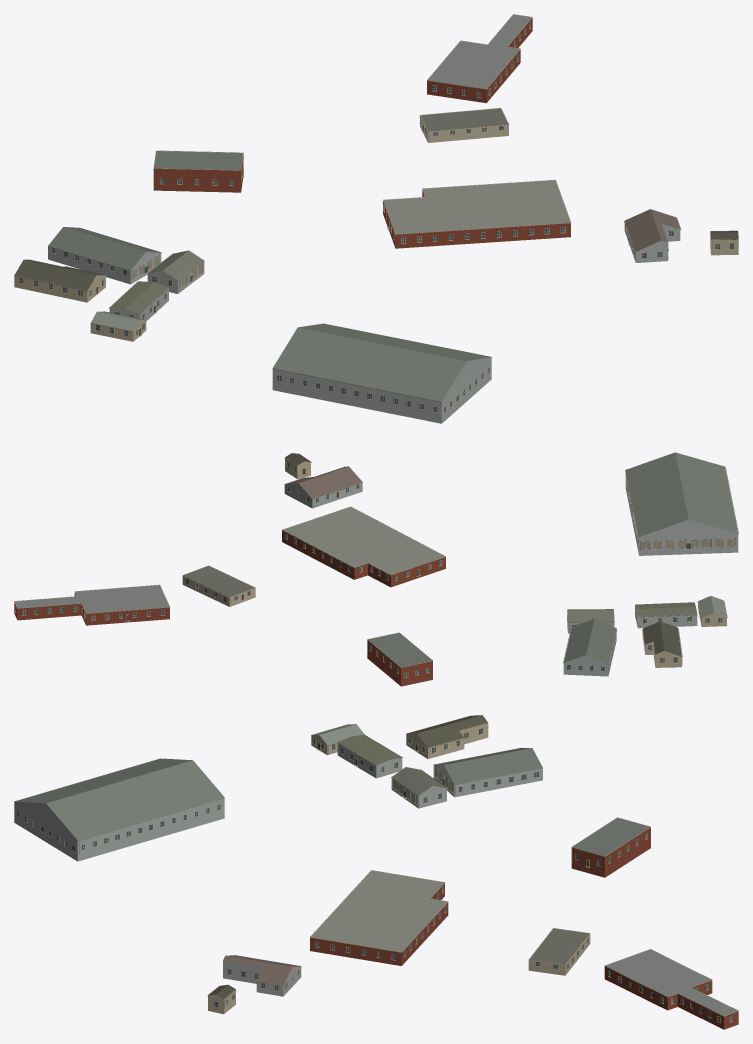
The picture shows the model from 3 angles, top to bottom: view 1: azimuth 30°, elevation 25°; view 2: azimuth 150°, elevation 25°; view 3: azimuth 270°, elevation 25°; orthographic projection. The views are drawn at different scales.
Visible parts, largest first — view 1: 2_-4_598630029_0, 2_-4_598631240_3, 2_-4_598630030_1; view 2: 2_-4_598630029_0, 2_-4_598631240_3, 2_-4_598630030_1; view 3: 2_-4_598630029_0, 2_-4_598631240_3, 2_-4_598630030_1.
Part boxes in pixels (x1,y1,x2,y2): 2_-4_598630029_0: (14, 14, 738, 413); 2_-4_598631240_3: (48, 221, 680, 423); 2_-4_598630030_1: (14, 116, 738, 341); 2_-4_598630029_0: (14, 452, 738, 686); 2_-4_598631240_3: (284, 471, 738, 676); 2_-4_598630030_1: (182, 458, 726, 667); 2_-4_598630029_0: (14, 715, 738, 1029); 2_-4_598631240_3: (14, 743, 542, 996); 2_-4_598630030_1: (208, 722, 590, 1014).
Size of the model in its own units: 221 by 14.36 by 223.
